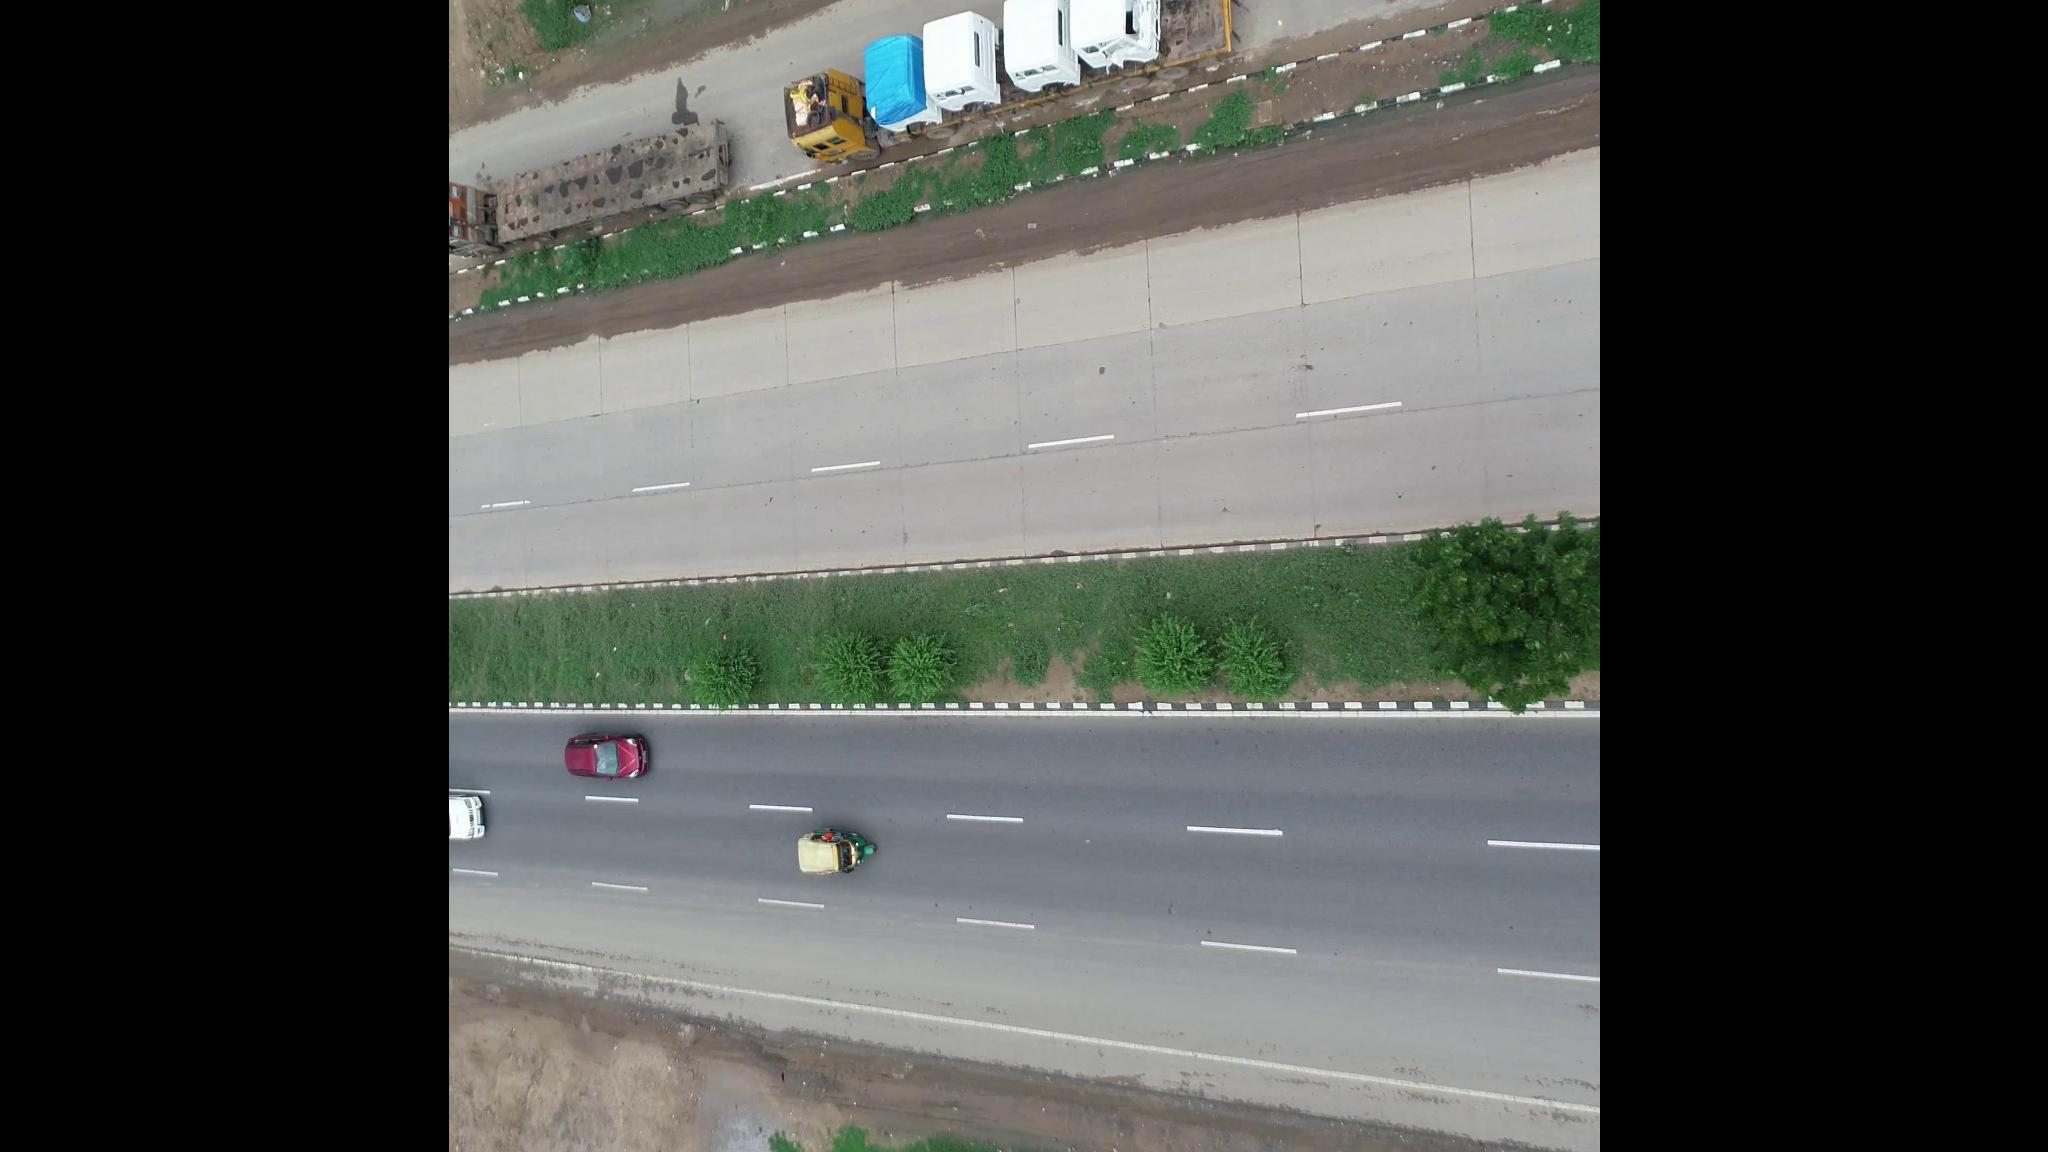Muddy_road: (553, 245, 836, 359), (1108, 121, 1363, 242), (857, 179, 1097, 295), (1364, 66, 1595, 187)
